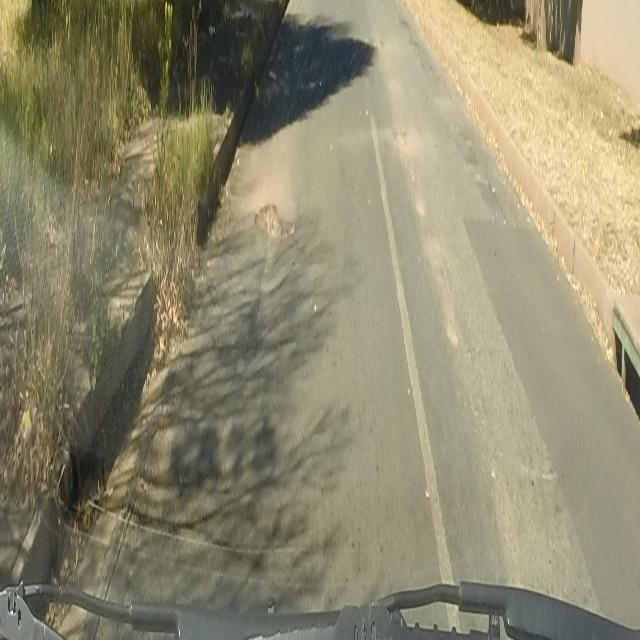pothole: (254, 199, 282, 242)
